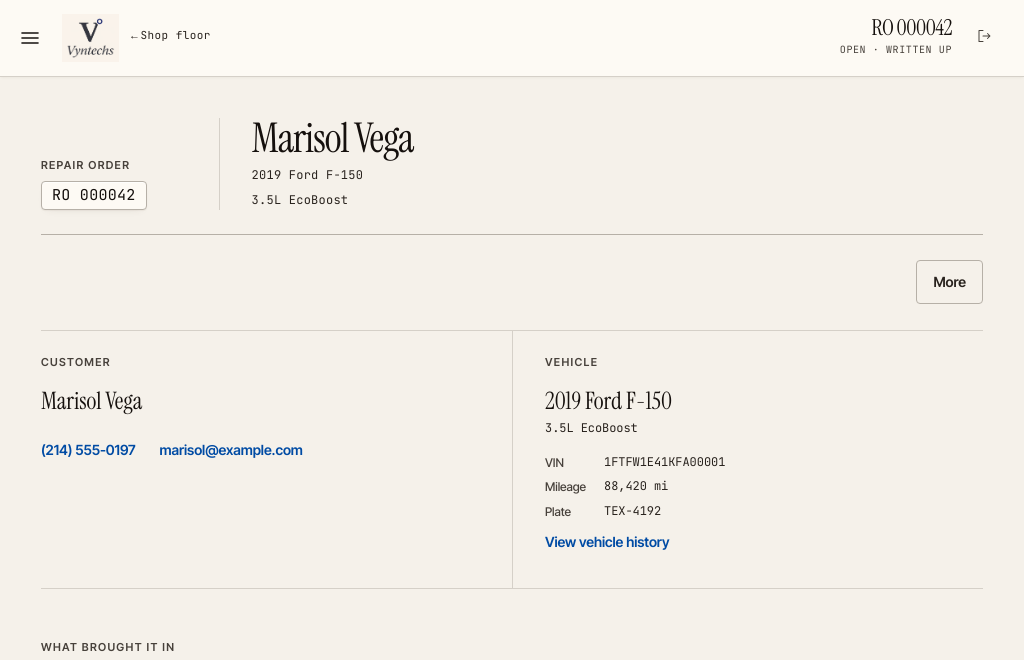
TicketDetailScreen › keeps secondary Build ticket behind closed More without changing advisor authority
This screenshot has width=1024, height=660.
Expected: the button "Build ticket" is not shown
Click the button "More": (950, 282) [916,260,983,304]
(page scrolled)
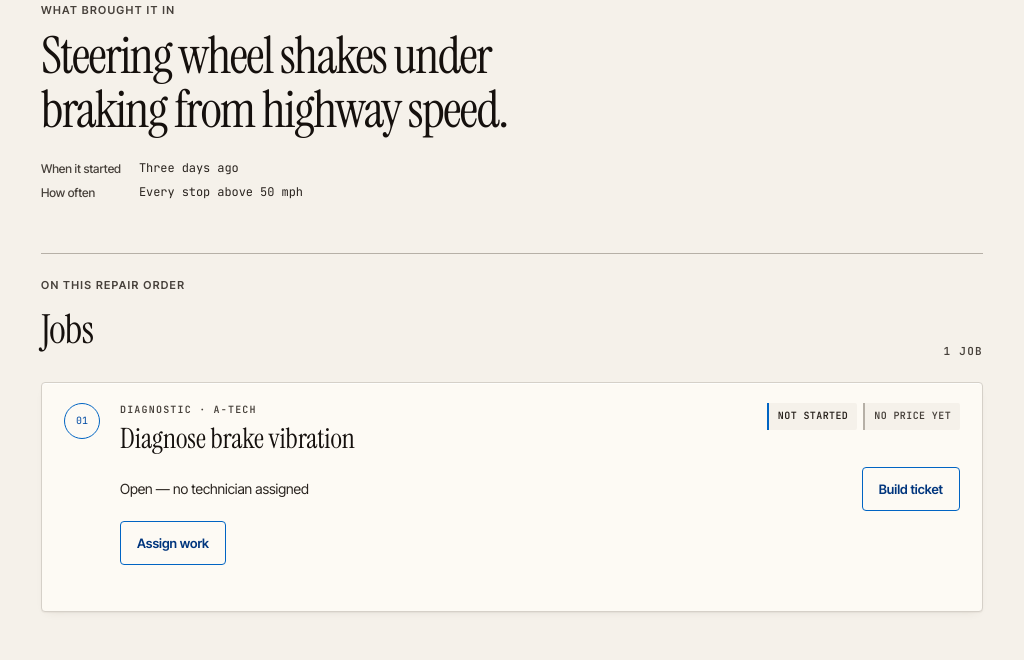
Result: the button "Build ticket" is shown at [862,467,960,511]
